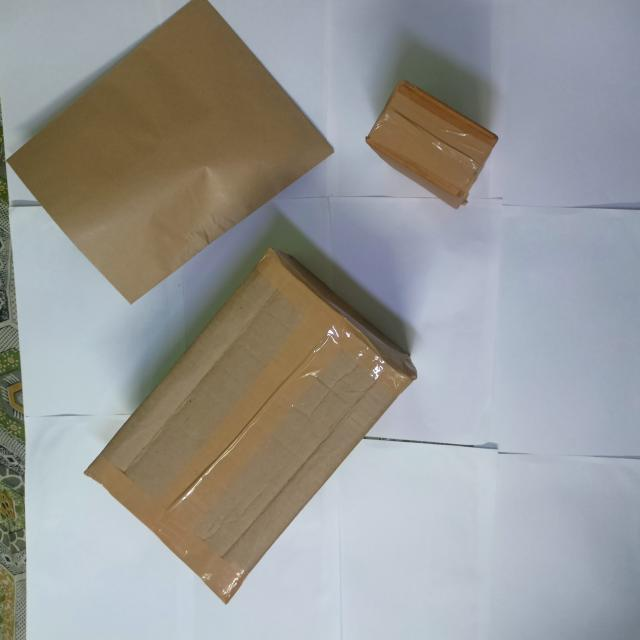box: (86, 251, 419, 607), (7, 1, 335, 307), (366, 82, 499, 211)
